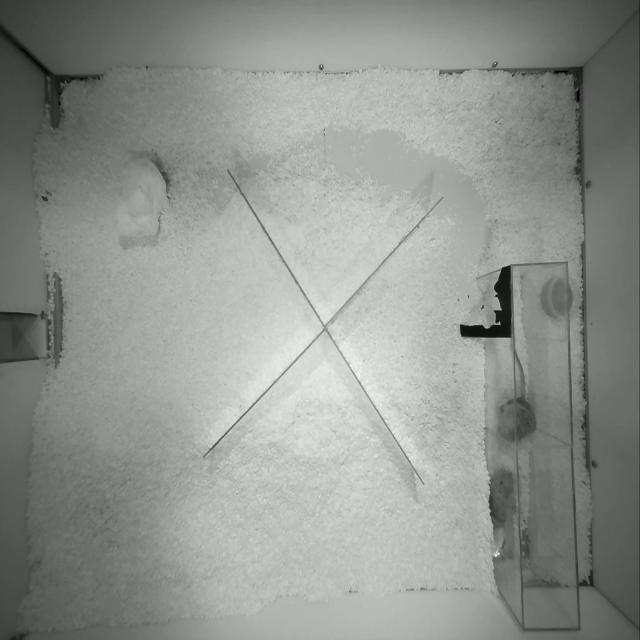adult_front: (489, 469, 514, 555)
pup_h_stripe: (498, 347, 536, 441)
